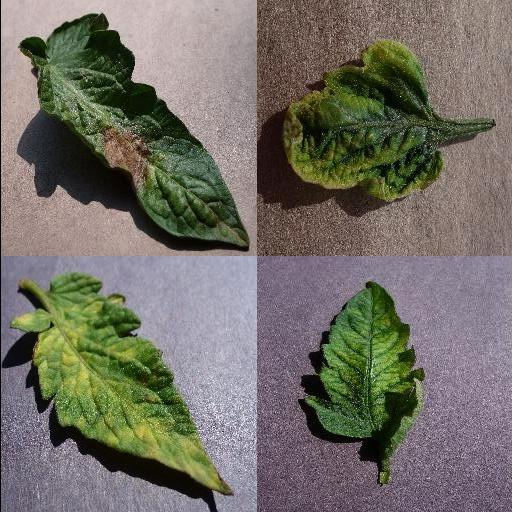Late Blight: (15, 14, 249, 250)
Leaf Mold: (7, 274, 235, 495)
Mosaic Virus: (305, 281, 427, 437)
Yellow Leaf Curl Virus: (283, 40, 443, 202)
